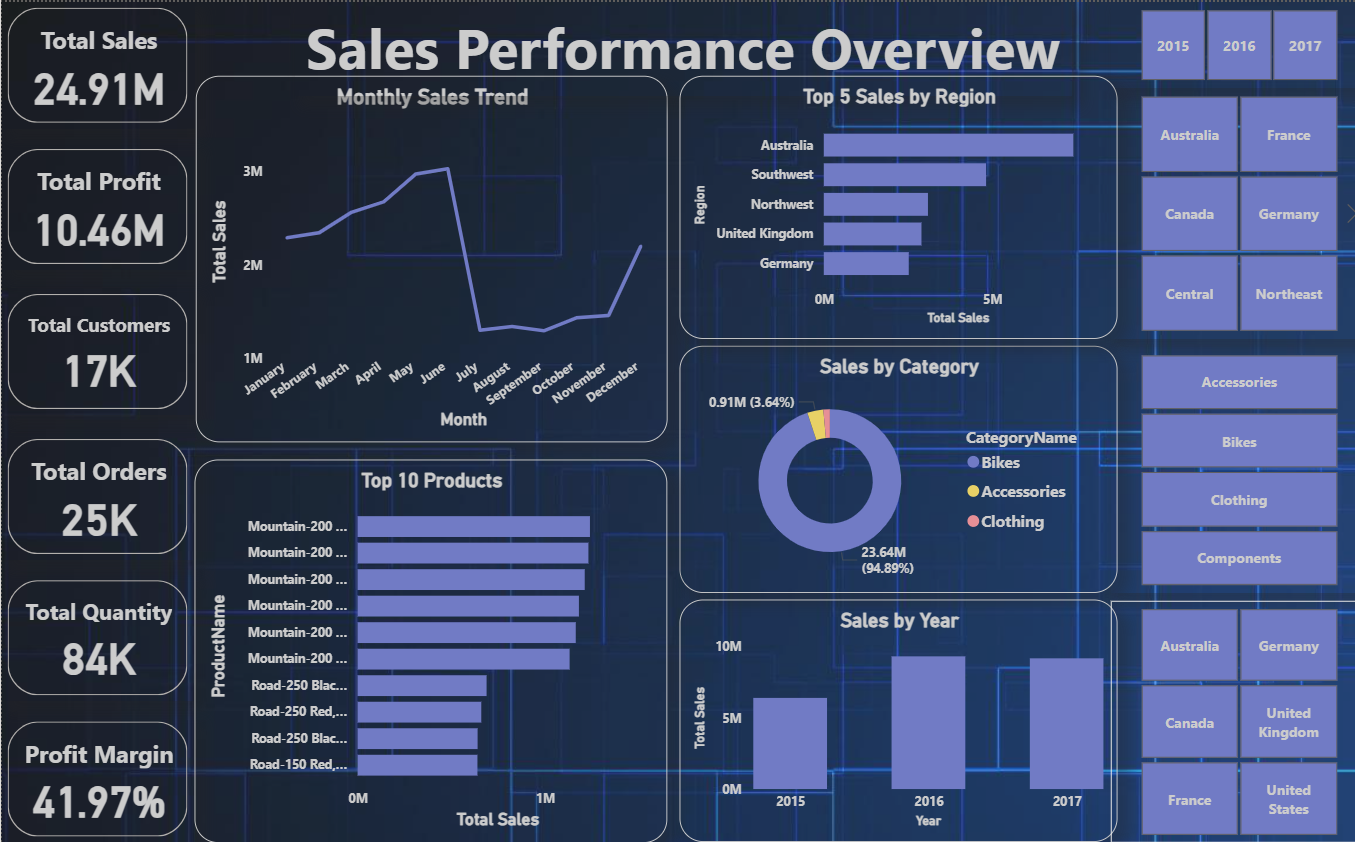

The page's visual inventory and layout, read from the dashboard file:
{"tool":"powerbi","page":{"name":"Sales Overview","canvas":[1160,720],"ordinal":0},"visuals":[{"type":"cardVisual","fields":{"Data":["Final Sales.Total Sales"]},"box":[0,0,163.6,108.4],"z":0},{"type":"cardVisual","fields":{"Data":["Final Sales.Total Profit"]},"box":[0,120.1,163.6,108.4],"z":1000},{"type":"cardVisual","fields":{"Data":["Final Sales.Total Orders"]},"box":[0,366.6,163.6,108.4],"z":2000},{"type":"cardVisual","fields":{"Data":["Final Sales.Total Customers"]},"box":[0,243.3,163.6,108.4],"z":3000},{"type":"cardVisual","fields":{"Data":["Final Sales.Total Quantity"]},"box":[0,487.7,163.6,108.4],"z":4000},{"type":"cardVisual","fields":{"Data":["Final Sales.Profit Margin"]},"box":[0,607.7,163.6,108.4],"z":5000},{"type":"lineChart","title":"Monthly Sales Trend","fields":{"Y":["Final Sales.Total Sales"],"Category":["Calendar.Date.Variation.Date Hierarchy.Month"]},"box":[164.7,62.7,401.6,312.4],"z":6000},{"type":"textbox","box":[248.9,0,661.7,79.8],"z":7000},{"type":"donutChart","title":"Sales by Category","fields":{"Category":["Product Categories.CategoryName"],"Y":["Final Sales.Total Sales"]},"box":[576.9,292.2,372.9,210.4],"z":8000},{"type":"clusteredBarChart","title":"Top 5 Sales by Region","fields":{"Category":["Territories.Region"],"Y":["Final Sales.Total Sales"]},"box":[576.9,62.7,372.9,224.2],"z":9000},{"type":"barChart","title":"Top 10 Products","fields":{"Category":["Products.ProductName"],"Y":["Final Sales.Total Sales"]},"box":[163.6,388.9,402.7,326.2],"z":10000},{"type":"columnChart","title":"Sales by Year","fields":{"Category":["Calendar.Date.Variation.Date Hierarchy.Year"],"Y":["Final Sales.Total Sales"]},"box":[576.9,508.9,372.9,206.1],"z":11000},{"type":"slicer","title":"Year","fields":{"Values":["Calendar.Date.Variation.Date Hierarchy.Year"]},"box":[943.5,0,216.7,73.3],"z":12000},{"type":"slicer","fields":{"Values":["Territories.Region"]},"box":[943.5,73.3,216.7,213.6],"z":13000},{"type":"slicer","fields":{"Values":["Product Categories.CategoryName"]},"box":[943.5,293.2,216.7,209.3],"z":14000},{"type":"slicer","fields":{"Values":["Territories.Country"]},"box":[943.5,510,216.7,206.1],"z":15000}]}

Visuals, with their boxes in screenshot pixels (x1, y1, x2, y2), scaled from the page's 1160x720 canvas onto the 1355x842 screenshot:
cardVisual - Final Sales.Total Sales: bbox=[0, 0, 191, 127]
cardVisual - Final Sales.Total Profit: bbox=[0, 140, 191, 267]
cardVisual - Final Sales.Total Orders: bbox=[0, 429, 191, 555]
cardVisual - Final Sales.Total Customers: bbox=[0, 285, 191, 411]
cardVisual - Final Sales.Total Quantity: bbox=[0, 570, 191, 697]
cardVisual - Final Sales.Profit Margin: bbox=[0, 711, 191, 837]
"Monthly Sales Trend" lineChart: bbox=[192, 73, 661, 439]
textbox: bbox=[291, 0, 1064, 93]
"Sales by Category" donutChart: bbox=[674, 342, 1109, 588]
"Top 5 Sales by Region" clusteredBarChart: bbox=[674, 73, 1109, 336]
"Top 10 Products" barChart: bbox=[191, 455, 661, 836]
"Sales by Year" columnChart: bbox=[674, 595, 1109, 836]
"Year" slicer: bbox=[1102, 0, 1354, 86]
slicer - Territories.Region: bbox=[1102, 86, 1354, 336]
slicer - Product Categories.CategoryName: bbox=[1102, 343, 1354, 588]
slicer - Territories.Country: bbox=[1102, 596, 1354, 837]
